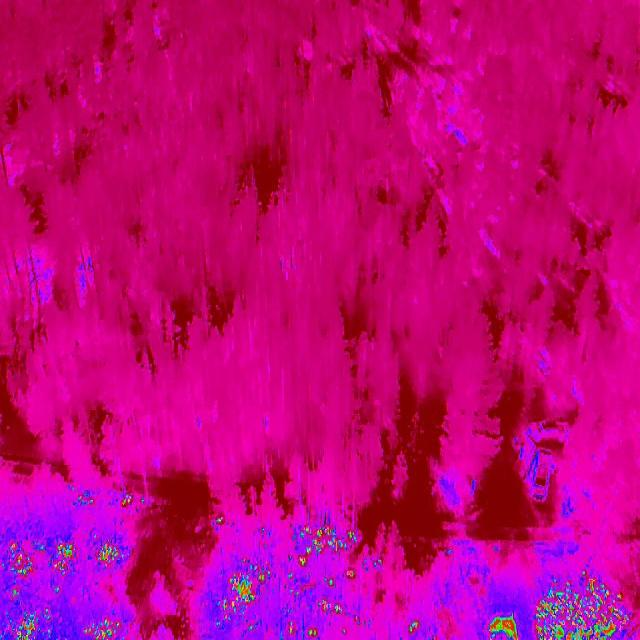fire: (212, 519, 440, 640), (4, 535, 133, 603), (527, 566, 640, 640), (4, 600, 142, 640), (61, 480, 158, 522), (488, 607, 521, 640), (210, 506, 233, 532)
